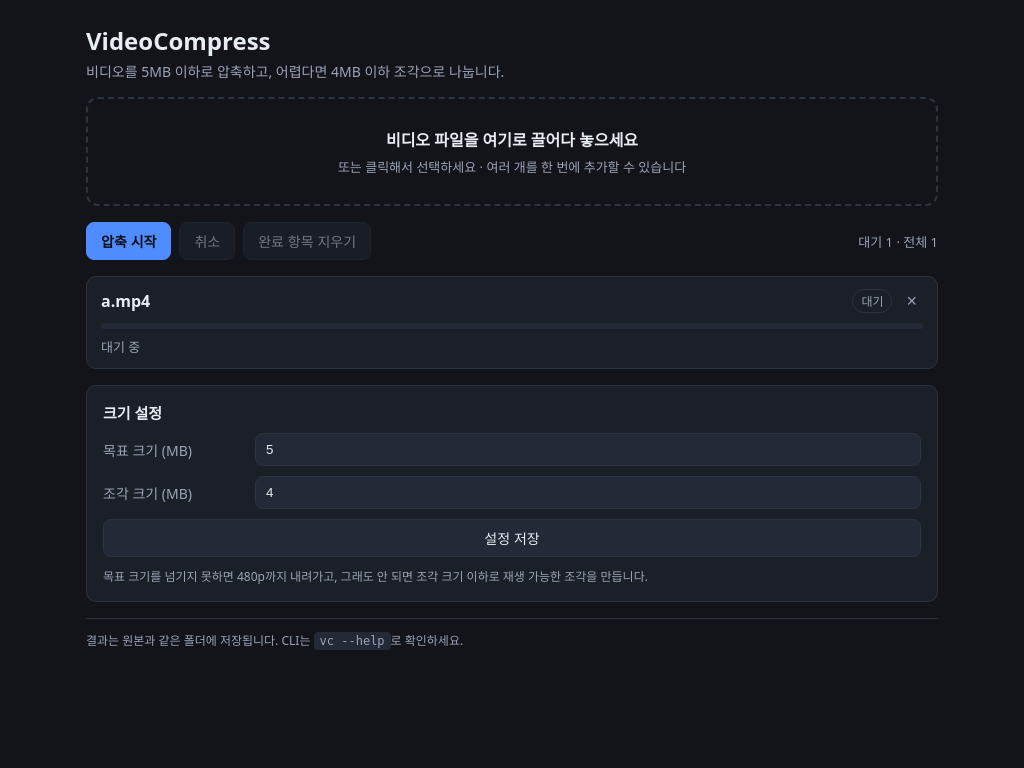
Test case: App › disables start while the size inputs are invalid
Expected: the text "a.mp4" is shown, [101, 290, 150, 312]
Expected: the button "압축 시작" is enabled, [86, 222, 171, 260]
Replace the text in the field labelled "목표 크기 (MB)" with "1": (588, 450) [255, 433, 921, 466]
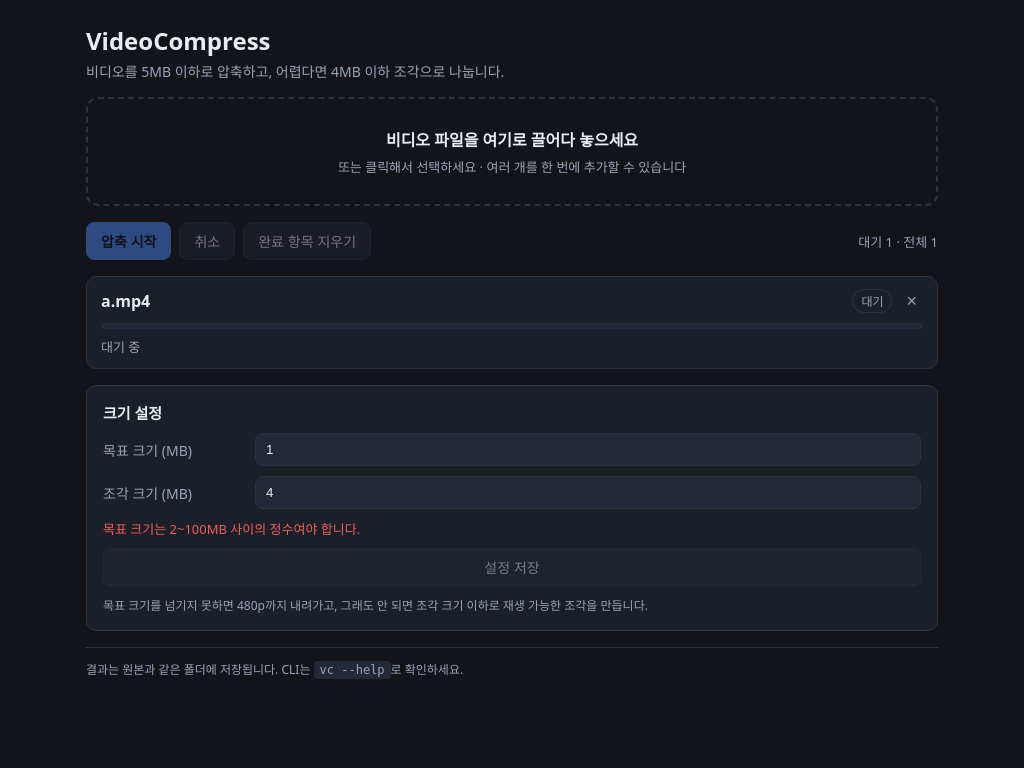
Expected: the button "압축 시작" is disabled, [86, 222, 171, 260]
Expected: the text "목표 크기는 2~100MB 사이의 정수여야 합니다." is shown, [103, 520, 360, 538]
